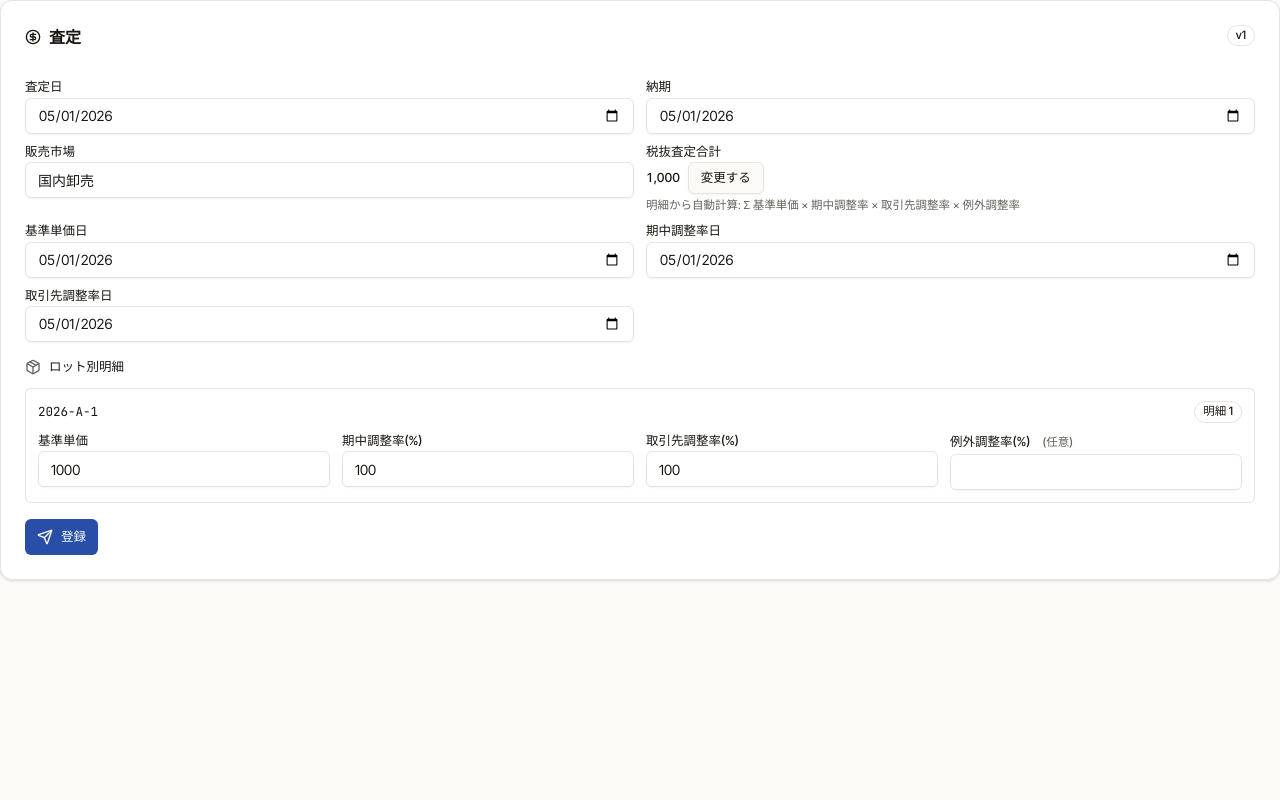
DirectAppraisalForm (FE-COMP-RICH-DA-*) › FE-COMP-RICH-DA-006: 「変更する」→ キャンセル → total は自動計算のまま (hidden input)
The width and height of the screenshot is (1280, 800).
What coordinates should you click on to do the following:
click the button "変更する"
I would click on:
 (726, 178)
Its box is [688, 162, 764, 194].
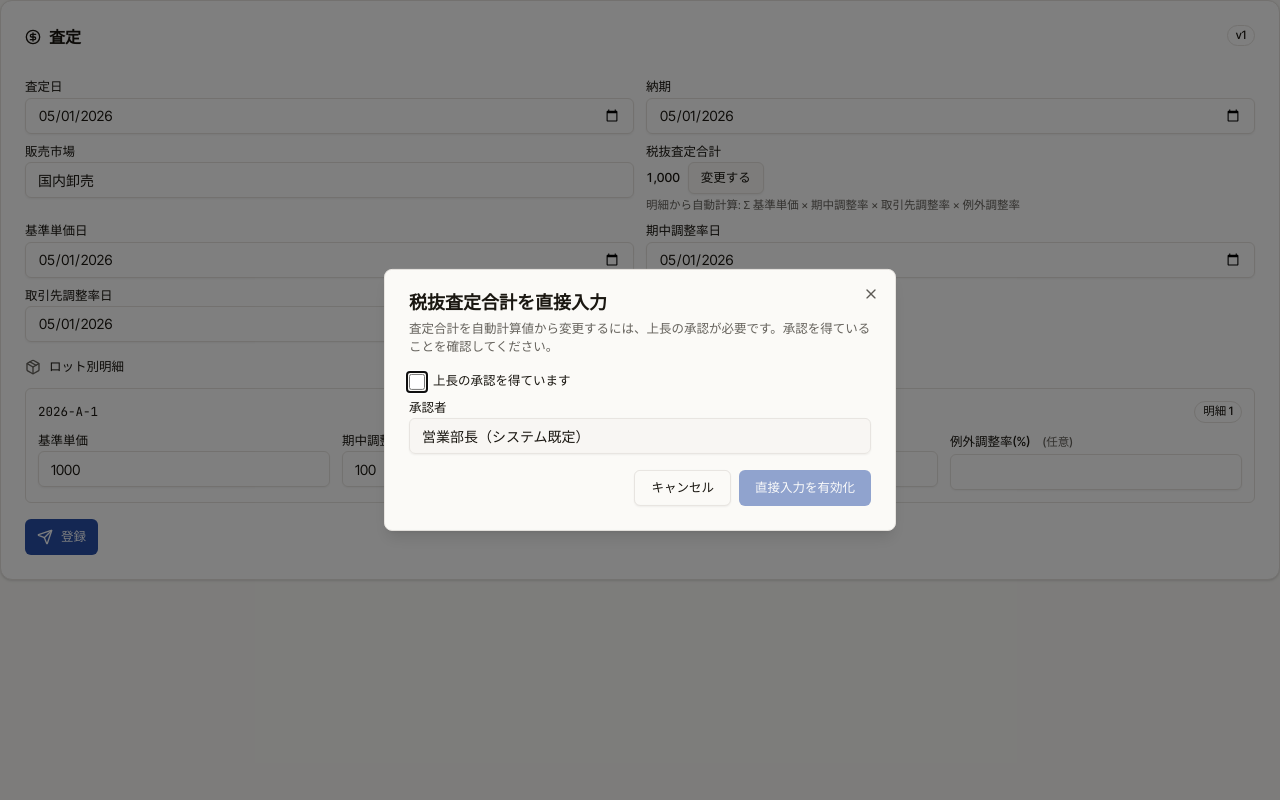
Expected: the dialog is shown, [384, 269, 896, 531]
What coordinates should you click on to do the following:
click the button "キャンセル"
I would click on:
 (683, 488)
Its box is [634, 470, 731, 506].
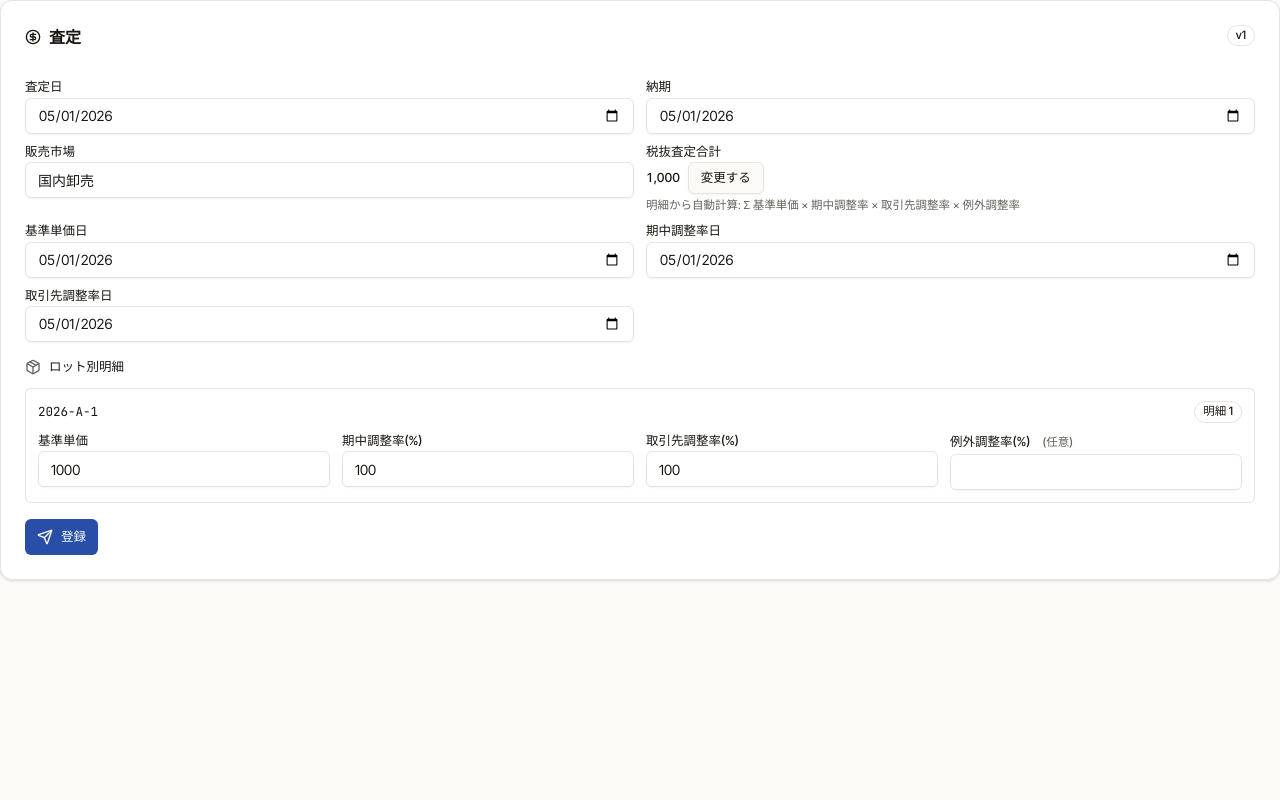
Expected: the text "1,000" is shown, [646, 169, 680, 187]
Expected: the dialog is gone
